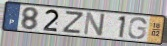1: (116, 15, 128, 39)
2: (43, 8, 60, 33)
8: (19, 6, 40, 31)
G: (127, 17, 148, 41)
N: (82, 11, 107, 37)
Z: (61, 11, 85, 35)
